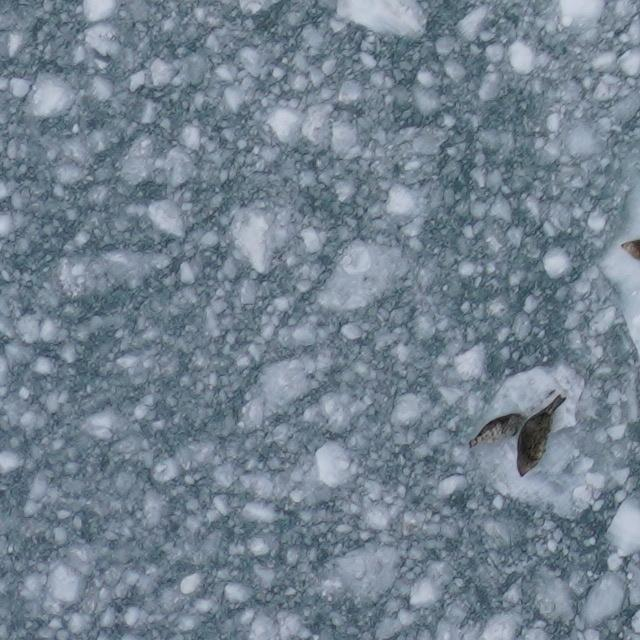seal: (513, 391, 569, 482), (463, 408, 535, 455)
